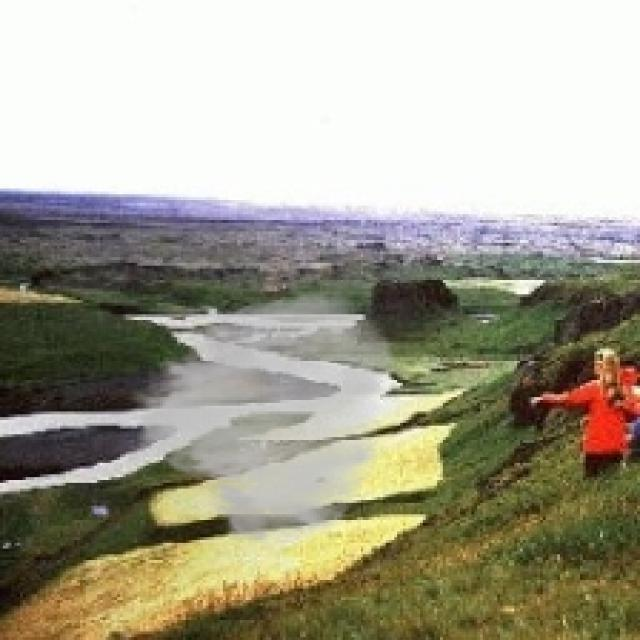Smoke: (120, 288, 400, 548)
